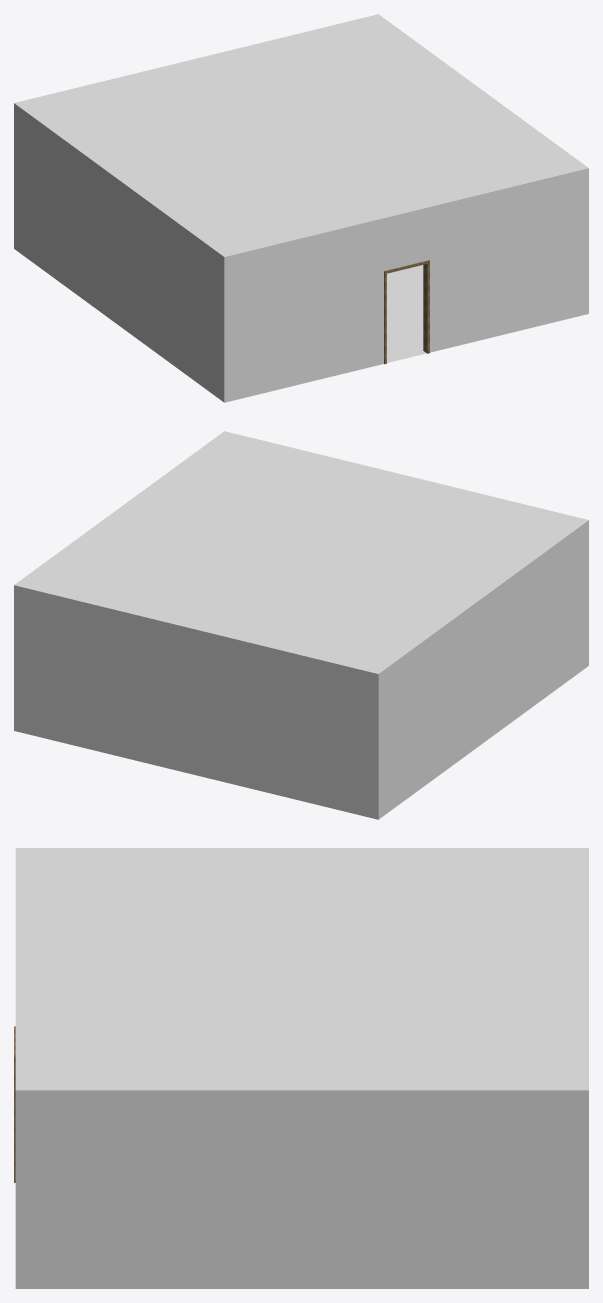
File: Room.fbx
The picture shows the model from 3 angles, top to bottom: view 1: azimuth 30°, elevation 25°; view 2: azimuth 150°, elevation 25°; view 3: azimuth 270°, elevation 25°; orthographic projection. The views are drawn at different scales.
Visible parts, largest first — view 1: Room.001, Roof; view 2: Room.001, Roof; view 3: Roof, Room.001.
Part boxes in pixels (x1=…): Room.001: x1=14, y1=14, x2=588, y2=402; Roof: x1=22, y1=17, x2=580, y2=253; Room.001: x1=14, y1=431, x2=588, y2=819; Roof: x1=22, y1=434, x2=580, y2=670; Roof: x1=23, y1=851, x2=580, y2=1086; Room.001: x1=14, y1=848, x2=588, y2=1288.
Size of the model in its own units: 7.2 by 2.75 by 7.22.
